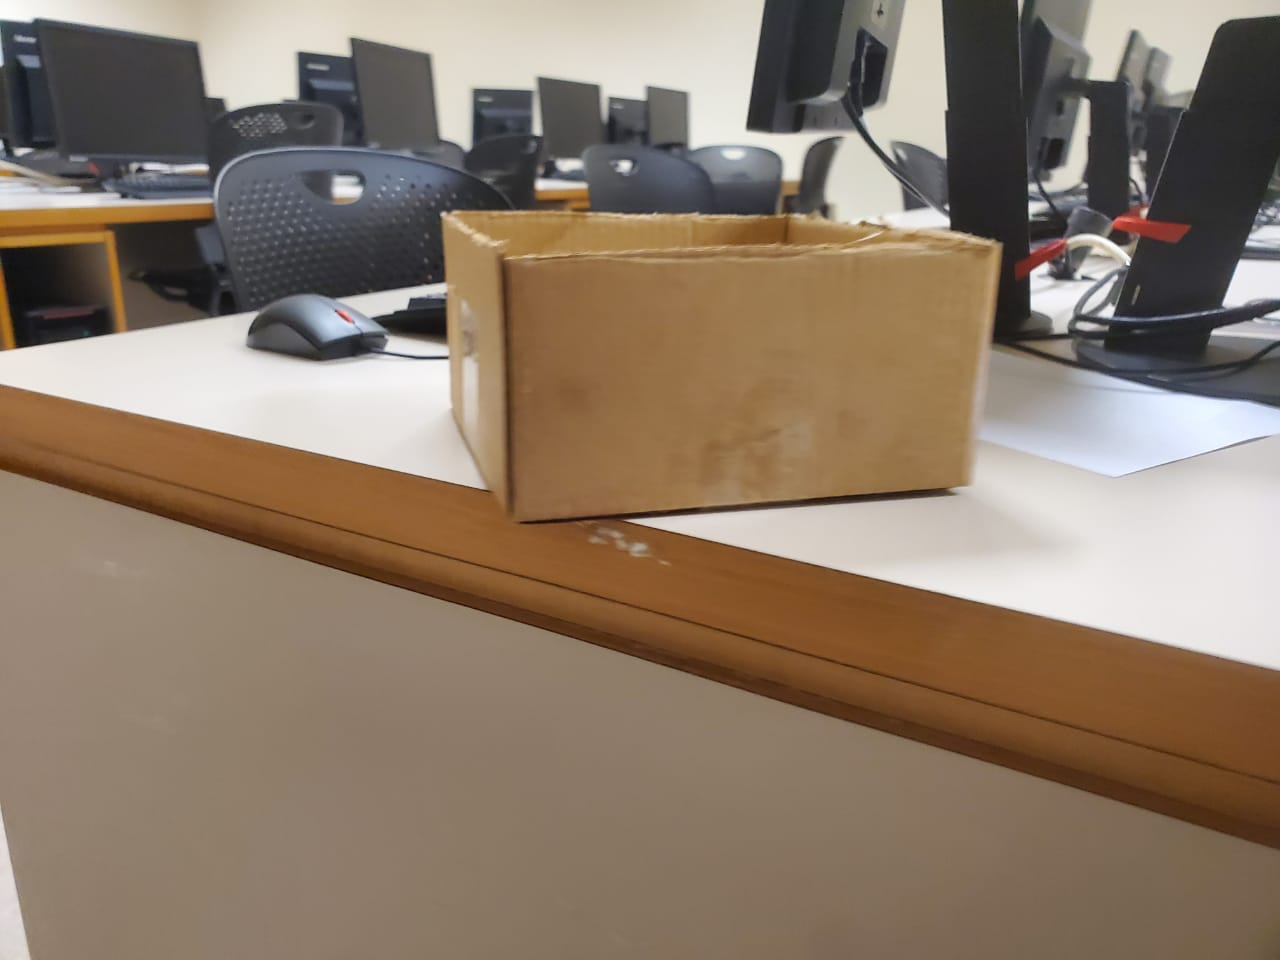CBox: (435, 202, 1004, 537)
